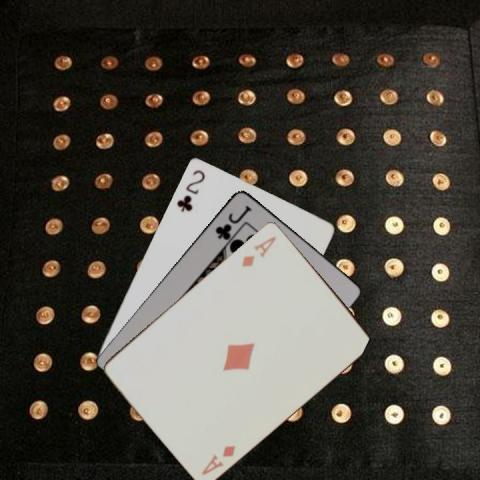2c: (173, 166, 207, 213)
Ad: (199, 441, 237, 477), (239, 233, 278, 268)
Jc: (212, 201, 253, 241)
